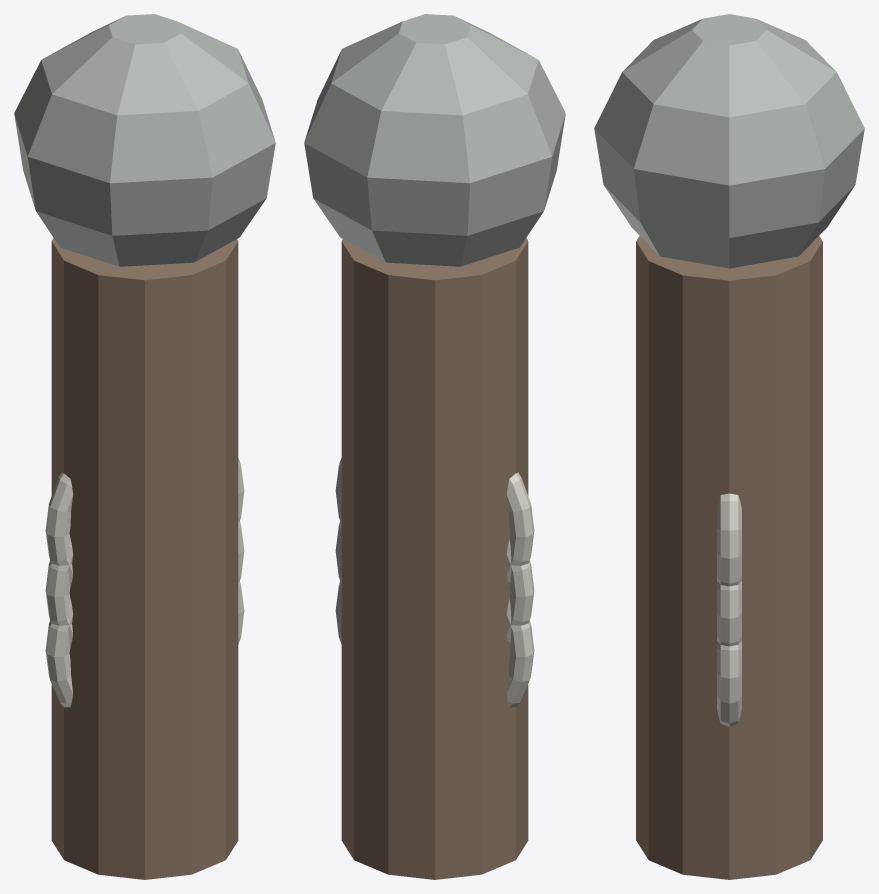
Rendered from arch_dock_pile_cap.glb.
The picture shows the model from 3 angles, left to right: view 1: azimuth 30°, elevation 25°; view 2: azimuth 150°, elevation 25°; view 3: azimuth 270°, elevation 25°; orthographic projection.
Parts seen in each view (by area): view 1: arch_dock_pile_cap/dock_bollard_stem_00000, arch_dock_pile_cap/dock_bollard_stone_cap_00001, arch_dock_pile_cap/mooring_rope_loop_00004, arch_dock_pile_cap/mooring_rope_loop_00002, arch_dock_pile_cap/mooring_rope_loop_00003; view 2: arch_dock_pile_cap/dock_bollard_stem_00000, arch_dock_pile_cap/dock_bollard_stone_cap_00001, arch_dock_pile_cap/mooring_rope_loop_00004, arch_dock_pile_cap/mooring_rope_loop_00002, arch_dock_pile_cap/mooring_rope_loop_00003; view 3: arch_dock_pile_cap/dock_bollard_stem_00000, arch_dock_pile_cap/dock_bollard_stone_cap_00001, arch_dock_pile_cap/mooring_rope_loop_00004, arch_dock_pile_cap/mooring_rope_loop_00002, arch_dock_pile_cap/mooring_rope_loop_00003.
Part boxes in pixels (box(x1,y1,x2,y2)): arch_dock_pile_cap/dock_bollard_stem_00000: box(51, 238, 238, 879); arch_dock_pile_cap/dock_bollard_stone_cap_00001: box(14, 14, 275, 266); arch_dock_pile_cap/mooring_rope_loop_00004: box(45, 458, 244, 587); arch_dock_pile_cap/mooring_rope_loop_00002: box(45, 581, 244, 707); arch_dock_pile_cap/mooring_rope_loop_00003: box(45, 521, 244, 647); arch_dock_pile_cap/dock_bollard_stem_00000: box(341, 238, 528, 879); arch_dock_pile_cap/dock_bollard_stone_cap_00001: box(304, 14, 565, 266); arch_dock_pile_cap/mooring_rope_loop_00004: box(335, 458, 534, 587); arch_dock_pile_cap/mooring_rope_loop_00002: box(335, 581, 534, 707); arch_dock_pile_cap/mooring_rope_loop_00003: box(335, 521, 534, 647); arch_dock_pile_cap/dock_bollard_stem_00000: box(636, 236, 822, 879); arch_dock_pile_cap/dock_bollard_stone_cap_00001: box(594, 14, 864, 268); arch_dock_pile_cap/mooring_rope_loop_00004: box(717, 493, 741, 586); arch_dock_pile_cap/mooring_rope_loop_00002: box(717, 641, 741, 726); arch_dock_pile_cap/mooring_rope_loop_00003: box(717, 581, 741, 646).
Size of the model in its own units: 0.348 by 1.15 by 0.348.
